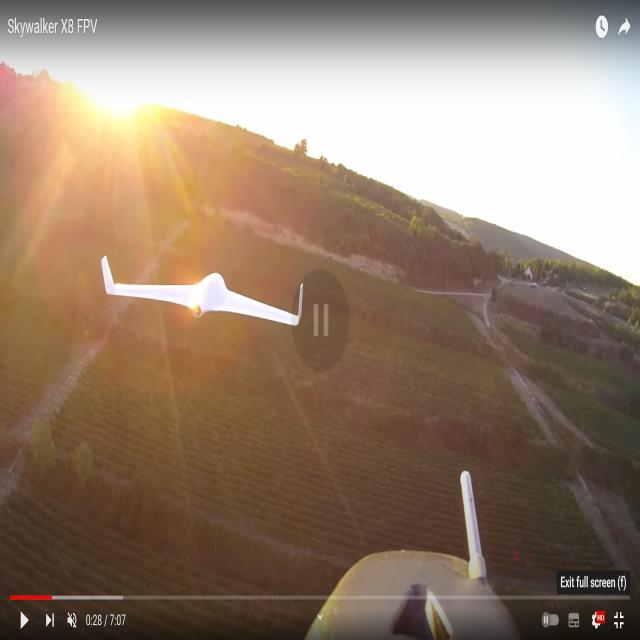iha: (90, 288, 298, 302)
